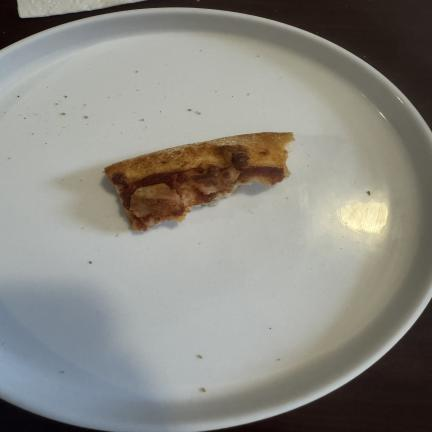pizza: (105, 133, 293, 230)
